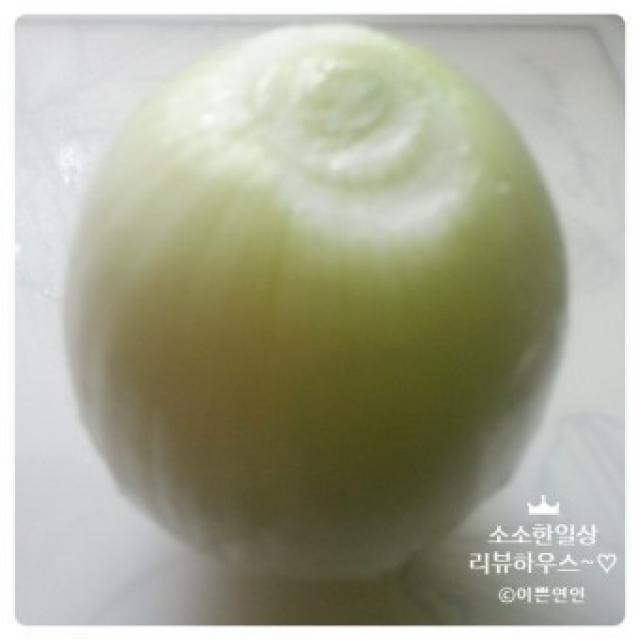Onion: (59, 23, 570, 579)
